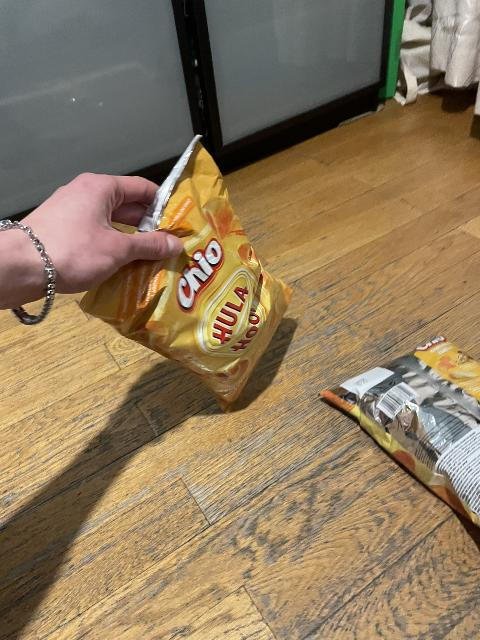Chio Cascaval 125g: (322, 332, 476, 544)
Chio Hula Hoops Cheese 70g: (80, 139, 300, 394)
